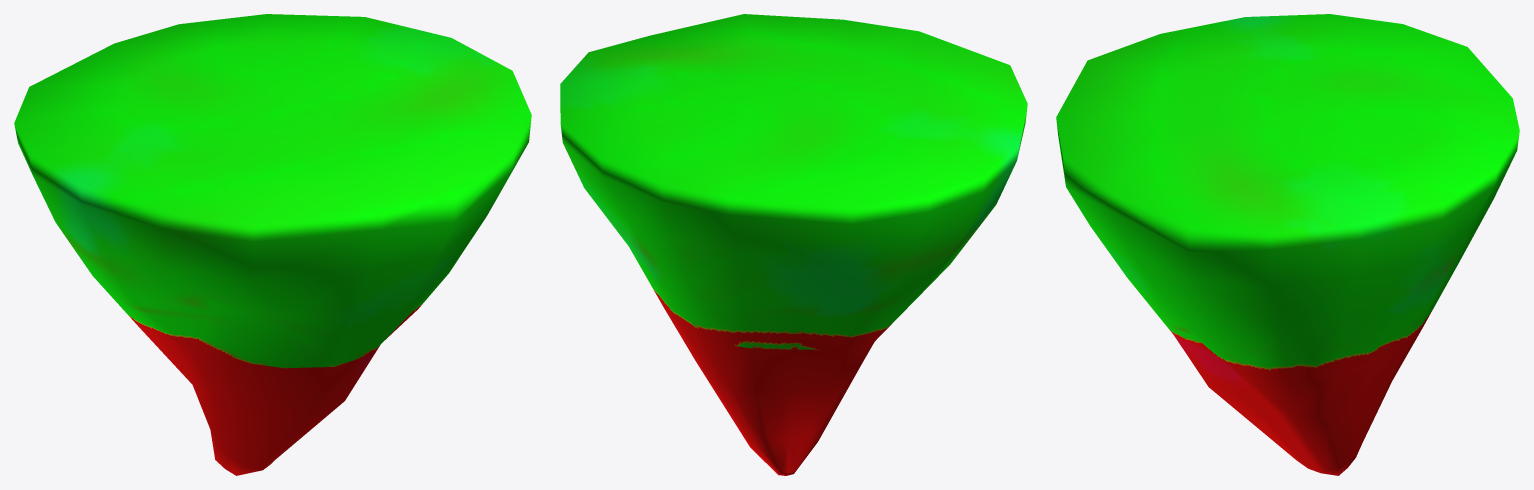
File: PaintedIslandShape3.dae
3 views of the same model, side by side, from view 1: azimuth 30°, elevation 25°; view 2: azimuth 150°, elevation 25°; view 3: azimuth 270°, elevation 25° (orthographic). The views are drawn at different scales.
Parts seen in each view (by area): view 1: PaintedIsland3; view 2: PaintedIsland3; view 3: PaintedIsland3.
Part boxes in pixels (x1,y1,x2,y2): PaintedIsland3: (14,14,531,475); PaintedIsland3: (560,14,1027,475); PaintedIsland3: (1056,14,1519,475).
Size of the model in its own units: 36.7 by 30.18 by 33.55.
